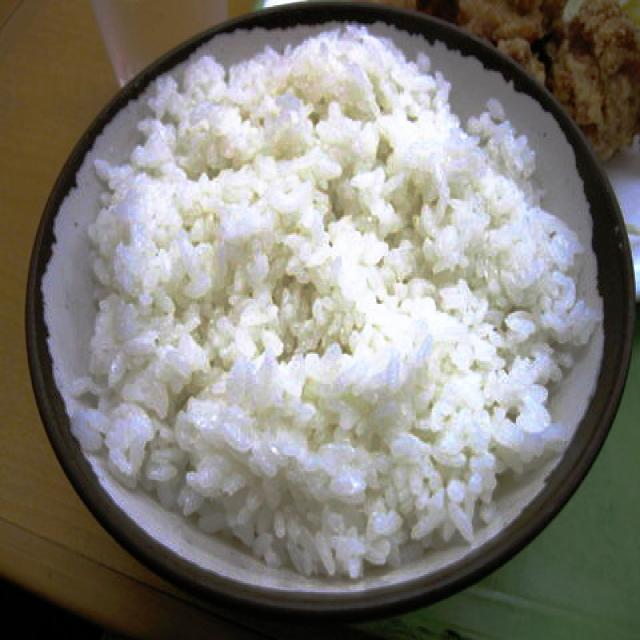rice: (69, 20, 600, 583)
